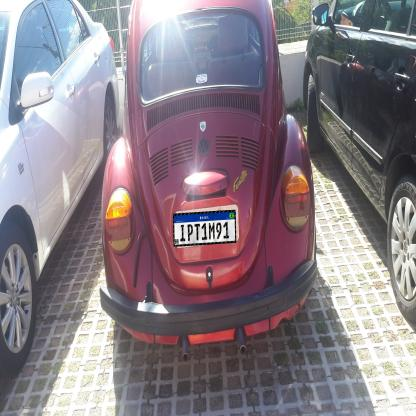PlacaM: (173, 210, 236, 247)
